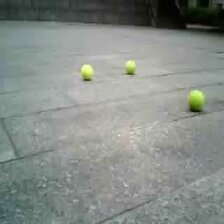tennis: (187, 89, 205, 109), (80, 64, 94, 80), (126, 60, 136, 73)
